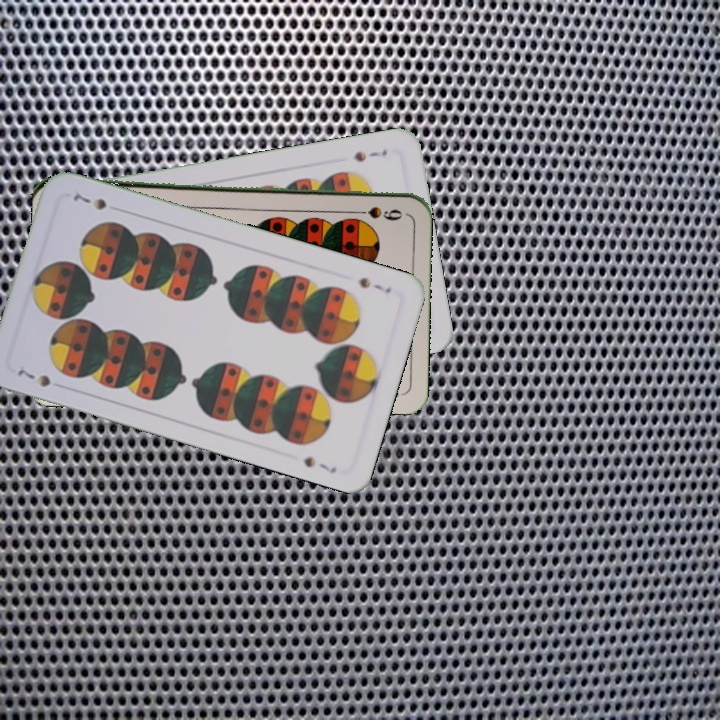S7: (13, 361, 53, 390), (354, 273, 394, 296), (349, 145, 390, 165)
S9: (347, 203, 405, 220)
